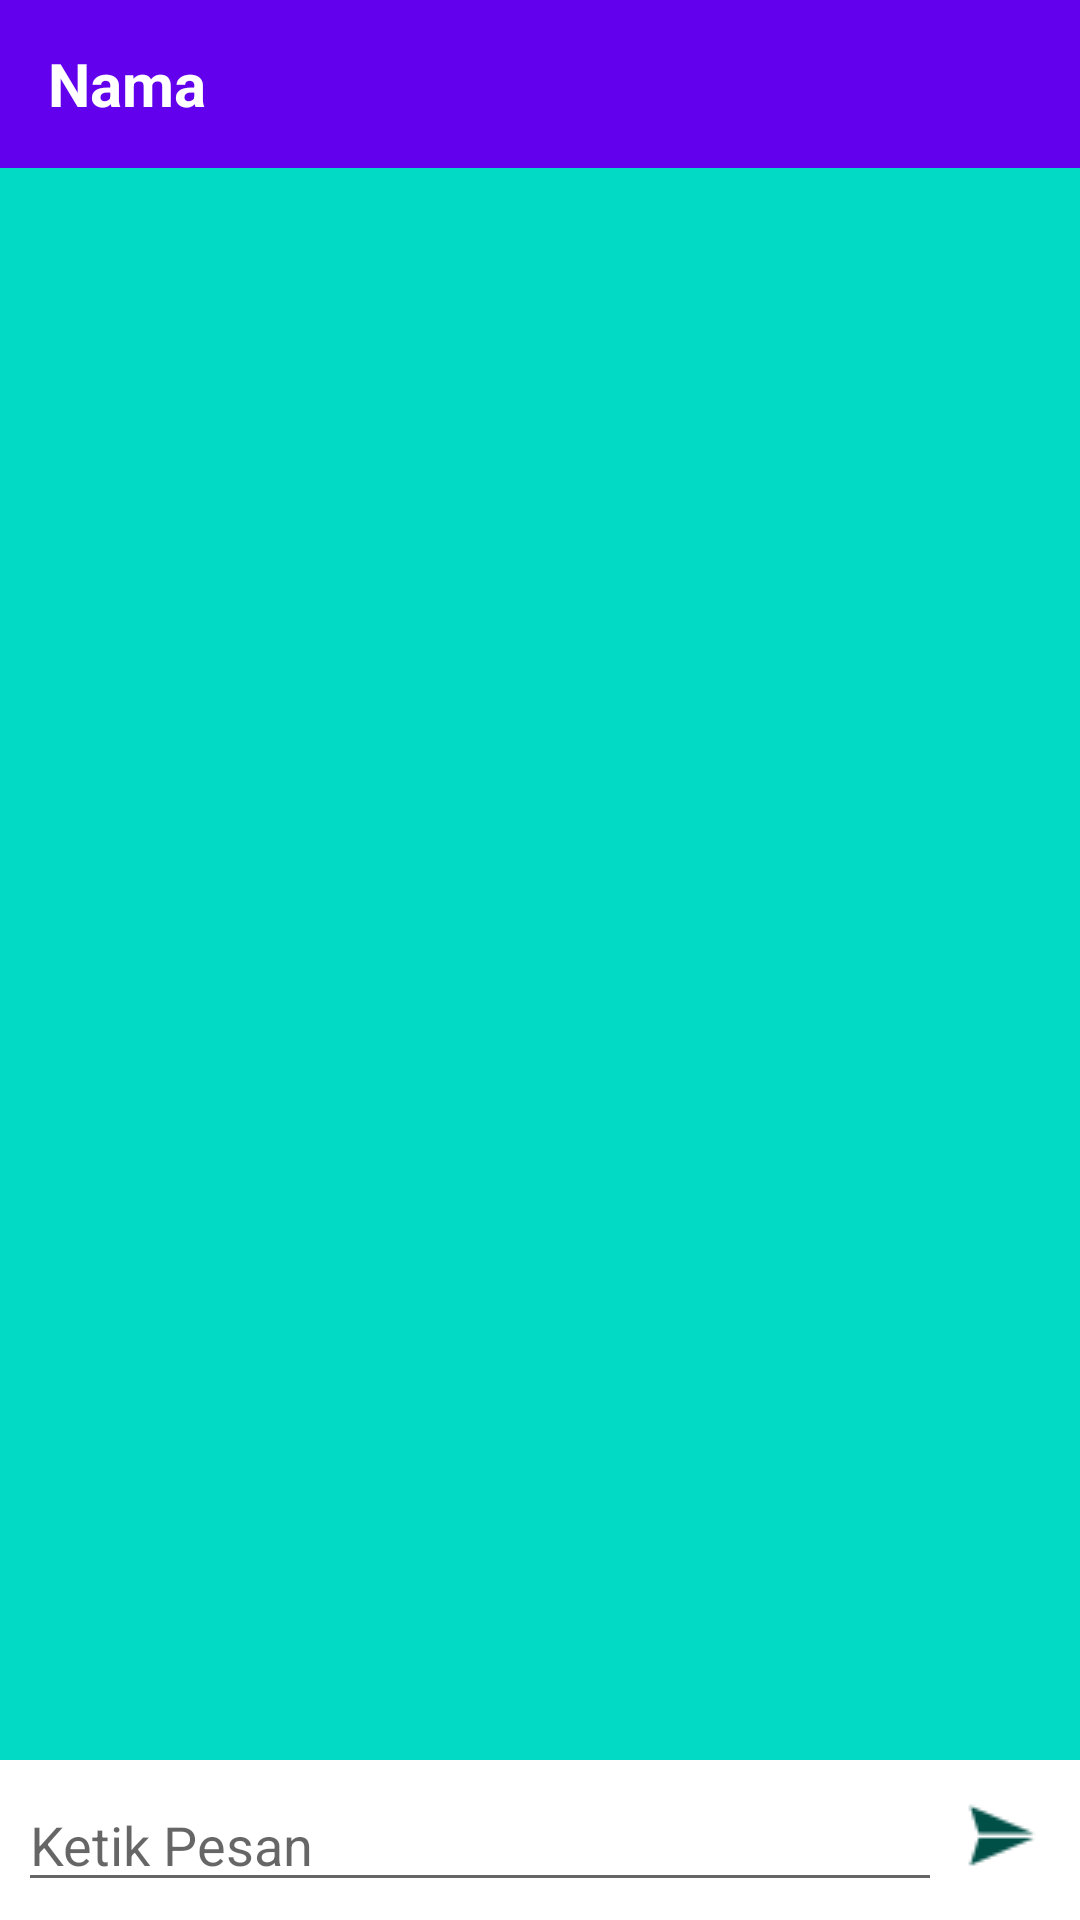

Named icons in this screenshot (1080 x 1920) and their centers, point (x, y):
send: point (1000, 1835)
